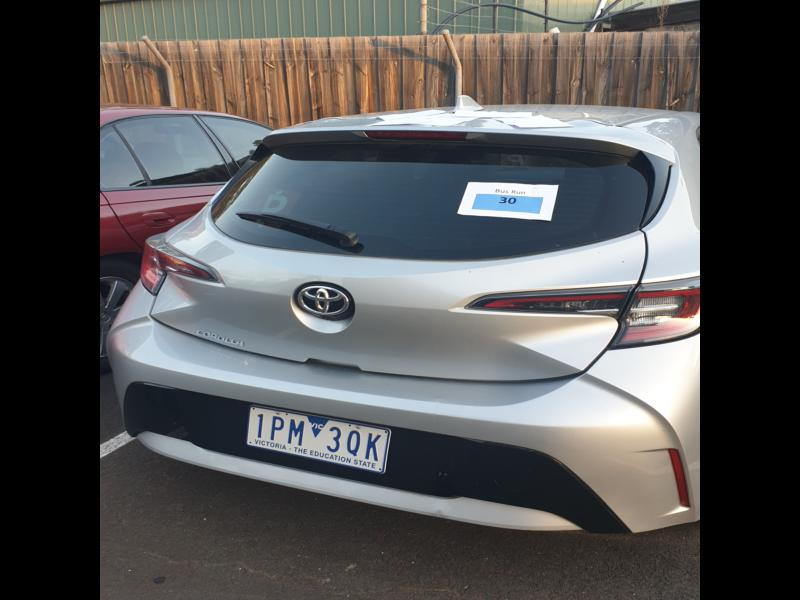BusRun: (470, 192, 544, 214)
PlateNo: (246, 405, 390, 476)
